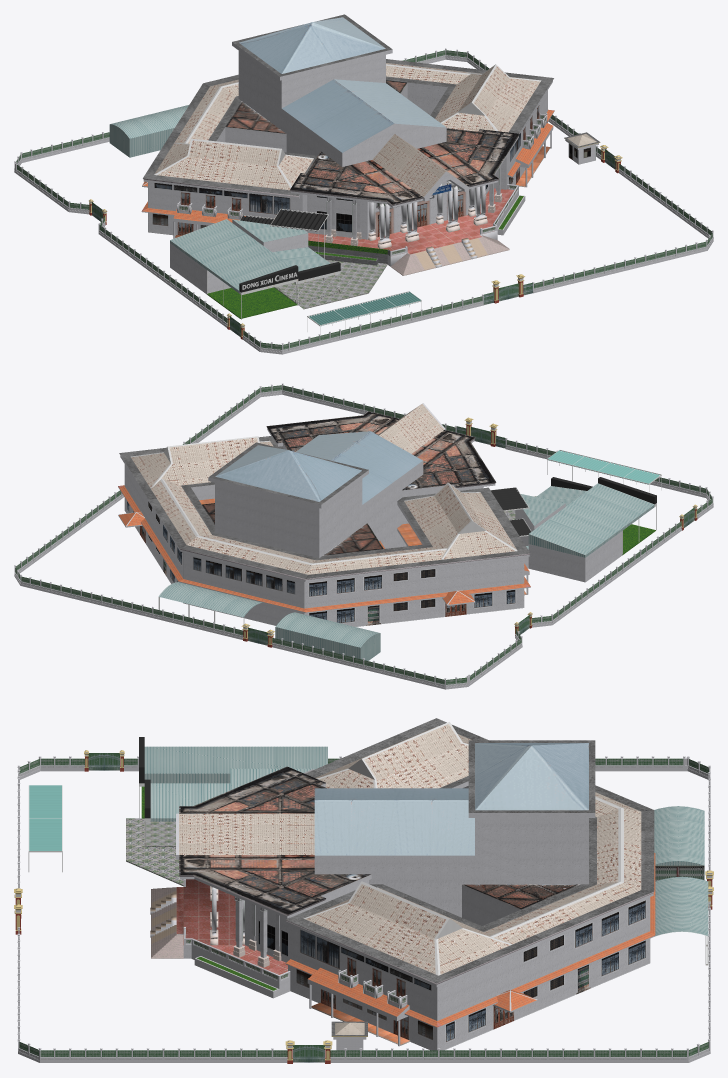
The model's file is DoancamuanhactinhBinhPhuoc_cinema.glb.
3 renders of one model, top to bottom at view 1: azimuth 30°, elevation 25°; view 2: azimuth 150°, elevation 25°; view 3: azimuth 270°, elevation 25°, orthographic. The views are drawn at different scales.
Visible parts, largest first — view 1: BPH027_DoancamuanhactinhBinhPhuoc_nhachinh, BPH027_DoancamuanhactinhBinhPhuoc_hangrao, BPH027_DoancamuanhactinhBinhPhuoc_cinema; view 2: BPH027_DoancamuanhactinhBinhPhuoc_nhachinh, BPH027_DoancamuanhactinhBinhPhuoc_hangrao, BPH027_DoancamuanhactinhBinhPhuoc_cinema; view 3: BPH027_DoancamuanhactinhBinhPhuoc_nhachinh, BPH027_DoancamuanhactinhBinhPhuoc_hangrao, BPH027_DoancamuanhactinhBinhPhuoc_cinema.
Boxes of the visible parts, <box> form: BPH027_DoancamuanhactinhBinhPhuoc_nhachinh: <box>141,14,554,275</box>; BPH027_DoancamuanhactinhBinhPhuoc_hangrao: <box>14,48,713,354</box>; BPH027_DoancamuanhactinhBinhPhuoc_cinema: <box>170,209,387,319</box>; BPH027_DoancamuanhactinhBinhPhuoc_nhachinh: <box>118,403,530,626</box>; BPH027_DoancamuanhactinhBinhPhuoc_hangrao: <box>14,383,713,689</box>; BPH027_DoancamuanhactinhBinhPhuoc_cinema: <box>490,477,656,582</box>; BPH027_DoancamuanhactinhBinhPhuoc_nhachinh: <box>150,718,655,1050</box>; BPH027_DoancamuanhactinhBinhPhuoc_hangrao: <box>14,750,713,1063</box>; BPH027_DoancamuanhactinhBinhPhuoc_cinema: <box>126,737,327,886</box>.
Size of the model in its own units: 90.3 by 25.54 by 90.61.
Materials: 3 (3 with a texture image).
